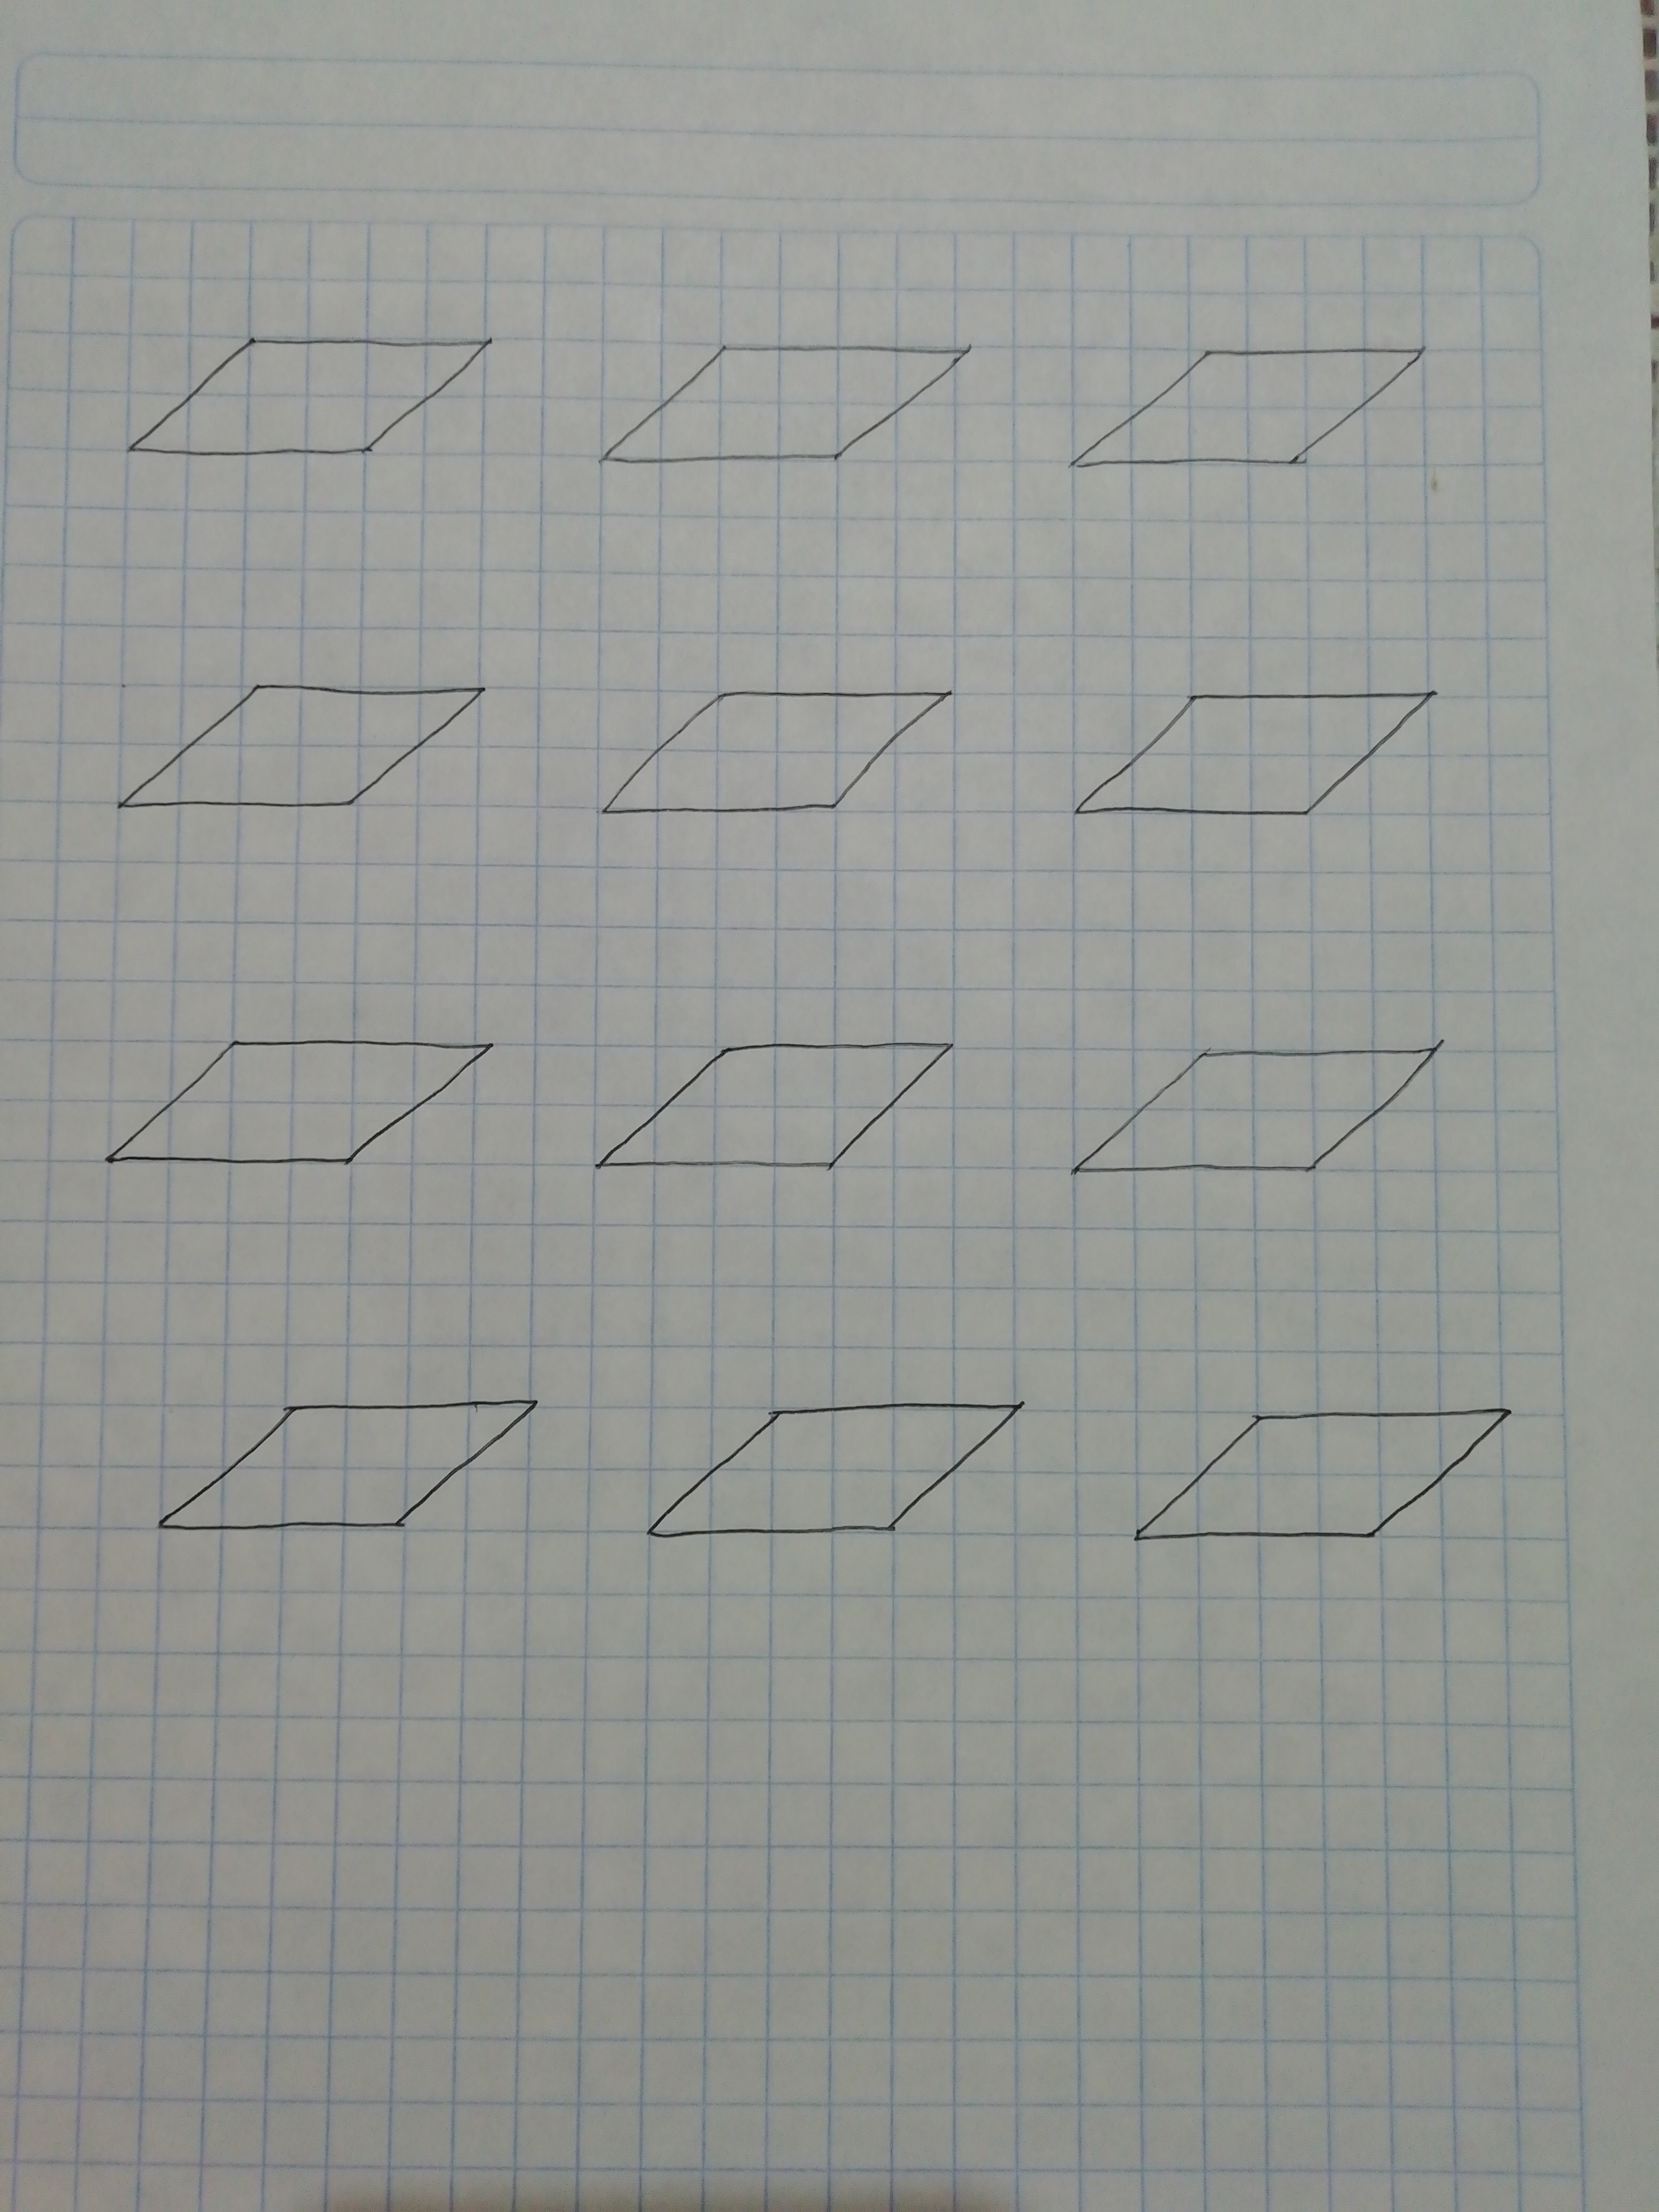scan: (118, 1336, 568, 1609), (44, 1000, 526, 1219), (608, 1362, 1054, 1599), (1051, 641, 1455, 887), (1037, 1003, 1483, 1219), (84, 284, 509, 510), (1103, 1374, 1558, 1571), (558, 662, 990, 864), (580, 993, 972, 1205), (558, 312, 1006, 493), (66, 660, 512, 840), (1033, 322, 1466, 507)
